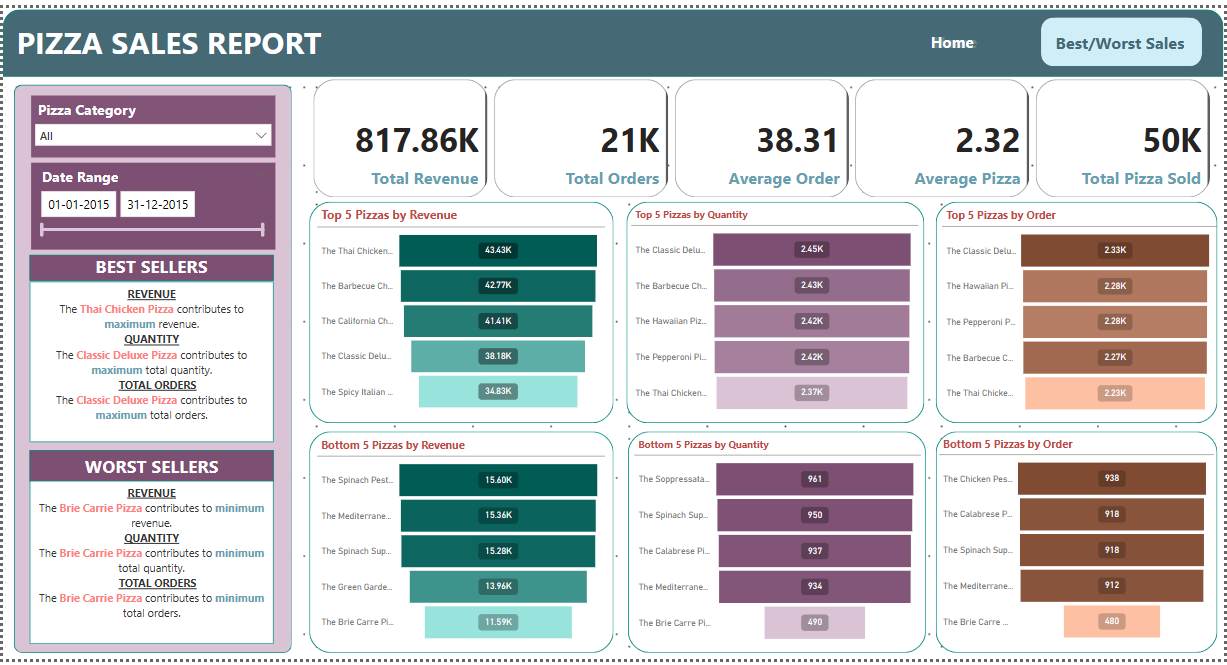

The dashboard page shown, as its layout file describes it:
{"tool":"powerbi","page":{"name":"Best/Worst Sales","canvas":[1500,800],"ordinal":1},"visuals":[{"type":"cardVisual","fields":{"Data":["pizza_sales.Total Revenue","pizza_sales.Total Orders","pizza_sales.Average Order Value","pizza_sales.Average Pizza Orders","pizza_sales.Total Pizza Sold"]},"box":[376.2,82.3,1116.2,155.4],"z":0},{"type":"shape","box":[376,238,374,272],"z":1000},{"type":"shape","box":[0,1.9,1499.5,82.6],"z":2000},{"type":"shape","box":[12.9,94.3,341.4,698.6],"z":3000},{"type":"shape","box":[32.3,336.2,300,197.7],"z":4000},{"type":"shape","box":[31.8,580,300,201.8],"z":5000},{"type":"shape","box":[32.7,542.7,300,38.2],"z":6000},{"type":"shape","box":[32.3,303.8,300,32.3],"z":7000},{"type":"textbox","box":[32.3,297.7,300,38.5],"z":8000},{"type":"textbox","box":[31.8,542.7,300,48.2],"z":9000},{"type":"textbox","box":[32.3,336.2,300,197.7],"z":10000},{"type":"textbox","box":[31.8,580,300,201.8],"z":11000},{"type":"slicer","title":"Pizza Category","fields":{"Values":["pizza_sales.pizza_category"]},"box":[34.3,107.9,300,76.4],"z":12000},{"type":"slicer","title":"Pizza Cat","fields":{"Values":["pizza_sales.order_date"]},"box":[34.3,190,300,107.1],"z":13000},{"type":"shape","box":[1146,238,346,272],"z":14000},{"type":"shape","box":[766,238,366,272],"z":15000},{"type":"shape","box":[376,520,374,272],"z":16000},{"type":"shape","box":[768,520,366,272],"z":17000},{"type":"shape","box":[1146,520,346,272],"z":18000},{"type":"funnel","title":"Top 5 Pizzas by Revenue","fields":{"Y":["pizza_sales.Total Revenue"],"Category":["pizza_sales.pizza_name"]},"box":[386.2,244.6,353.8,255.4],"z":19000},{"type":"funnel","title":"Bottom 5 Pizzas by Revenue","fields":{"Y":["pizza_sales.Total Revenue"],"Category":["pizza_sales.pizza_name"]},"box":[385.8,528.3,354.2,255],"z":20000},{"type":"funnel","title":"Top 5 Pizzas by Quantity","fields":{"Y":["pizza_sales.Total Pizza Sold"],"Category":["pizza_sales.pizza_name"]},"box":[772.2,245.6,353.3,255.6],"z":21000},{"type":"funnel","title":"Top 5 Pizzas by Order","fields":{"Category":["pizza_sales.pizza_name"],"Y":["pizza_sales.Total Orders"]},"box":[1154,246,338,256],"z":22000},{"type":"funnel","title":"Bottom 5 Pizzas by Quantity","fields":{"Y":["pizza_sales.Total Pizza Sold"],"Category":["pizza_sales.pizza_name"]},"box":[775.7,528.6,352.9,255.7],"z":23000},{"type":"funnel","title":"Bottom 5 Pizzas by Order","fields":{"Category":["pizza_sales.pizza_name"],"Y":["pizza_sales.Total Orders"]},"box":[1150,526,338,256],"z":24000},{"type":"pageNavigator","box":[1074,12,400,60],"z":25000},{"type":"pageNavigator","box":[1070,12,400,60],"z":26000},{"type":"textbox","box":[11.5,11.5,403.2,71],"z":27000}]}

Visuals, with their boxes in screenshot pixels (x1, y1, x2, y2), scaled from the page's 1500x800 canvas onto the 1227x665 screenshot:
cardVisual - pizza_sales.Total Revenue x pizza_sales.Total Orders: box(308, 68, 1221, 198)
shape: box(308, 198, 614, 424)
shape: box(0, 2, 1226, 70)
shape: box(11, 78, 290, 659)
shape: box(26, 279, 272, 444)
shape: box(26, 482, 271, 650)
shape: box(27, 451, 272, 483)
shape: box(26, 253, 272, 279)
textbox: box(26, 247, 272, 279)
textbox: box(26, 451, 271, 491)
textbox: box(26, 279, 272, 444)
textbox: box(26, 482, 271, 650)
"Pizza Category" slicer: box(28, 90, 273, 153)
"Pizza Cat" slicer: box(28, 158, 273, 247)
shape: box(937, 198, 1220, 424)
shape: box(627, 198, 926, 424)
shape: box(308, 432, 614, 658)
shape: box(628, 432, 928, 658)
shape: box(937, 432, 1220, 658)
"Top 5 Pizzas by Revenue" funnel: box(316, 203, 605, 416)
"Bottom 5 Pizzas by Revenue" funnel: box(316, 439, 605, 651)
"Top 5 Pizzas by Quantity" funnel: box(632, 204, 921, 417)
"Top 5 Pizzas by Order" funnel: box(944, 204, 1220, 417)
"Bottom 5 Pizzas by Quantity" funnel: box(635, 439, 923, 652)
"Bottom 5 Pizzas by Order" funnel: box(941, 437, 1217, 650)
pageNavigator: box(879, 10, 1206, 60)
pageNavigator: box(875, 10, 1202, 60)
textbox: box(9, 10, 339, 69)
